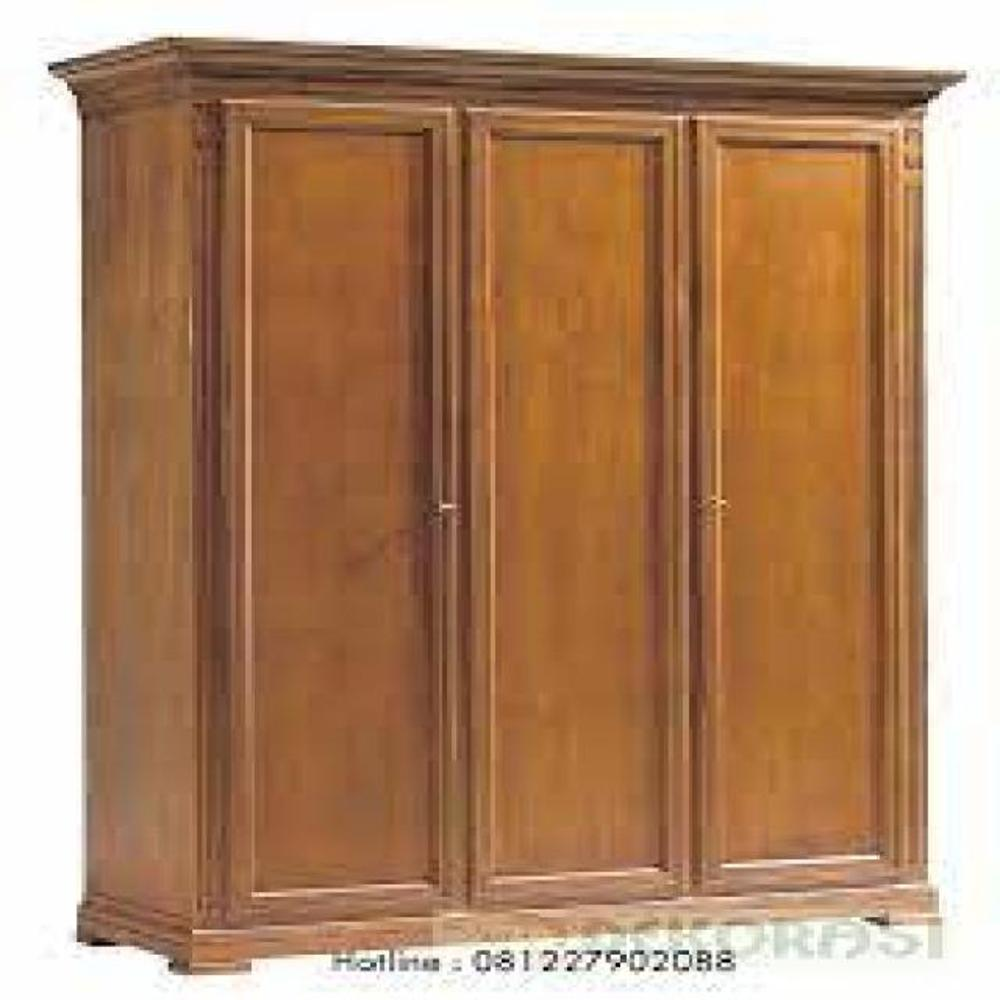cabinet: (52, 34, 957, 980)
